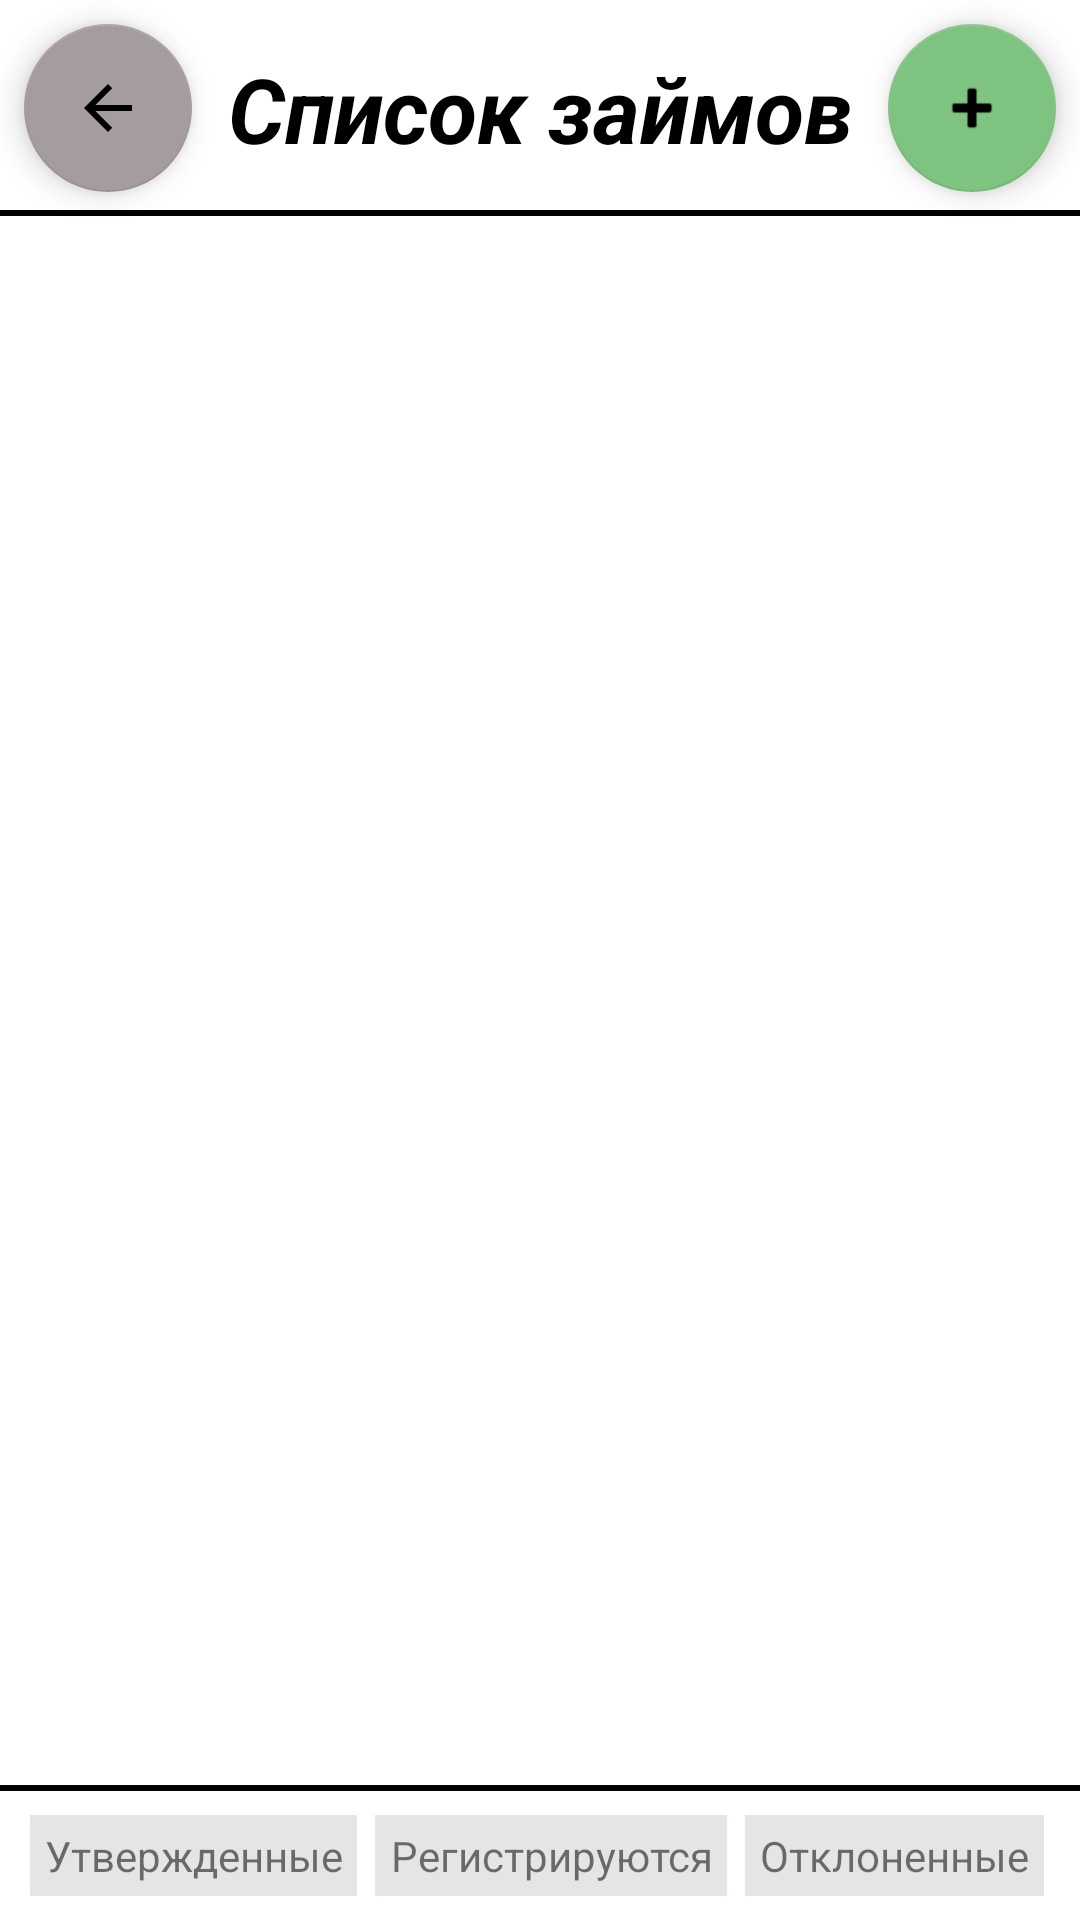

Screen size 1080 × 1920. Icon name, then its center in pixels as (x=x, y=y):
Новый займ: (x=972, y=108)
